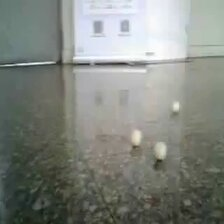w: (153, 142, 166, 158), (130, 130, 142, 144), (170, 100, 181, 113)
